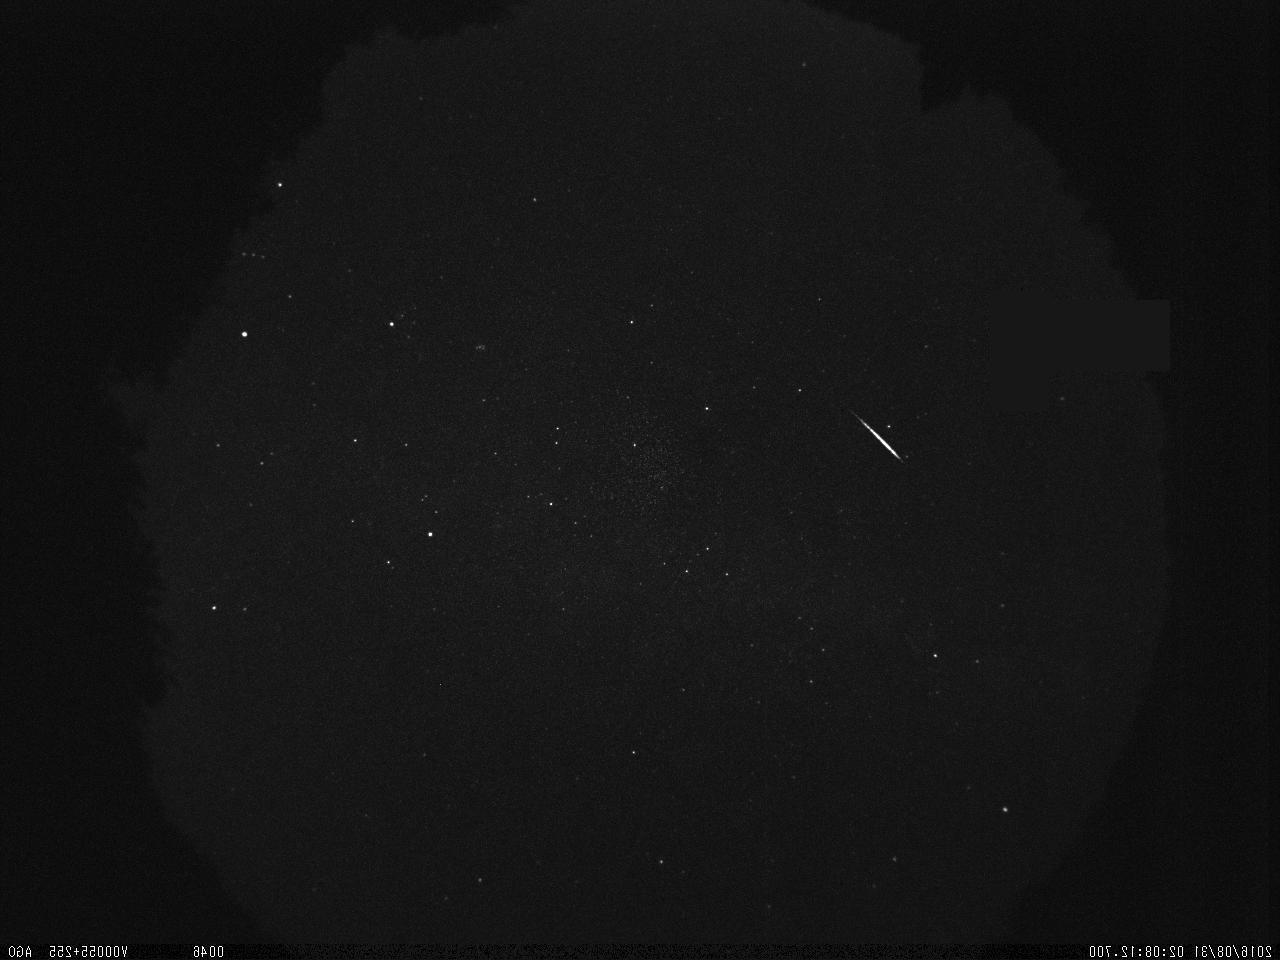meteor: (838, 405, 906, 467)
